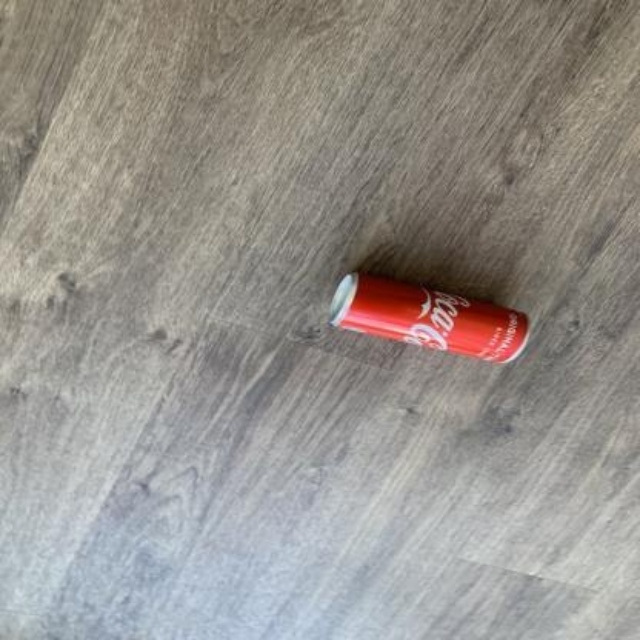trash: (329, 272, 526, 362)
